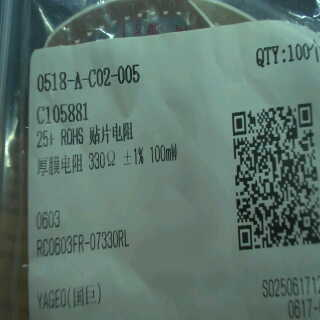330R: (87, 147, 119, 173)
